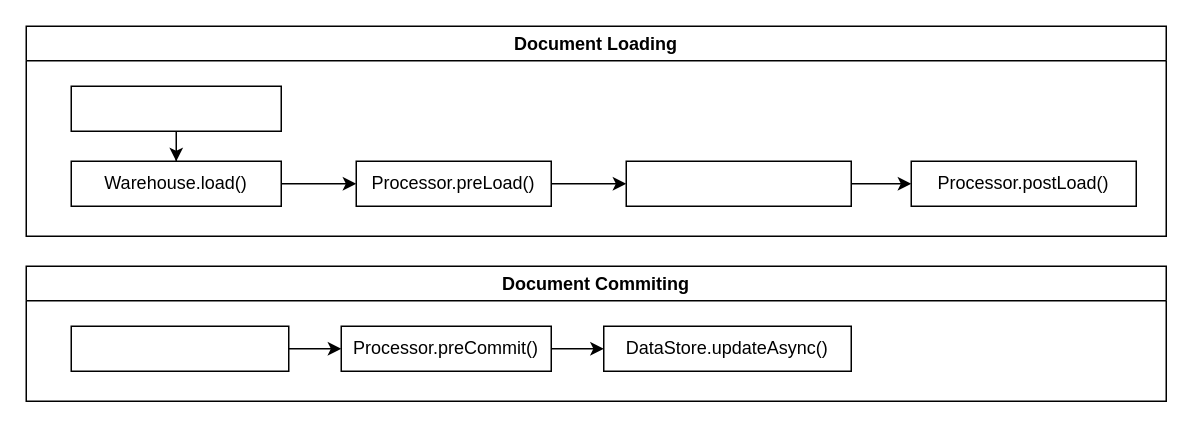
This 1193x428 diagram has some shape labels left out. The shapes that lost their labels are listed below. From the top down, each one's centre as x and y in pixels, then its label:
point (175, 108): DataStore.GetAsync()
point (738, 183): Warehouse.reconciliate()
point (179, 348): Warehouse.commit()
